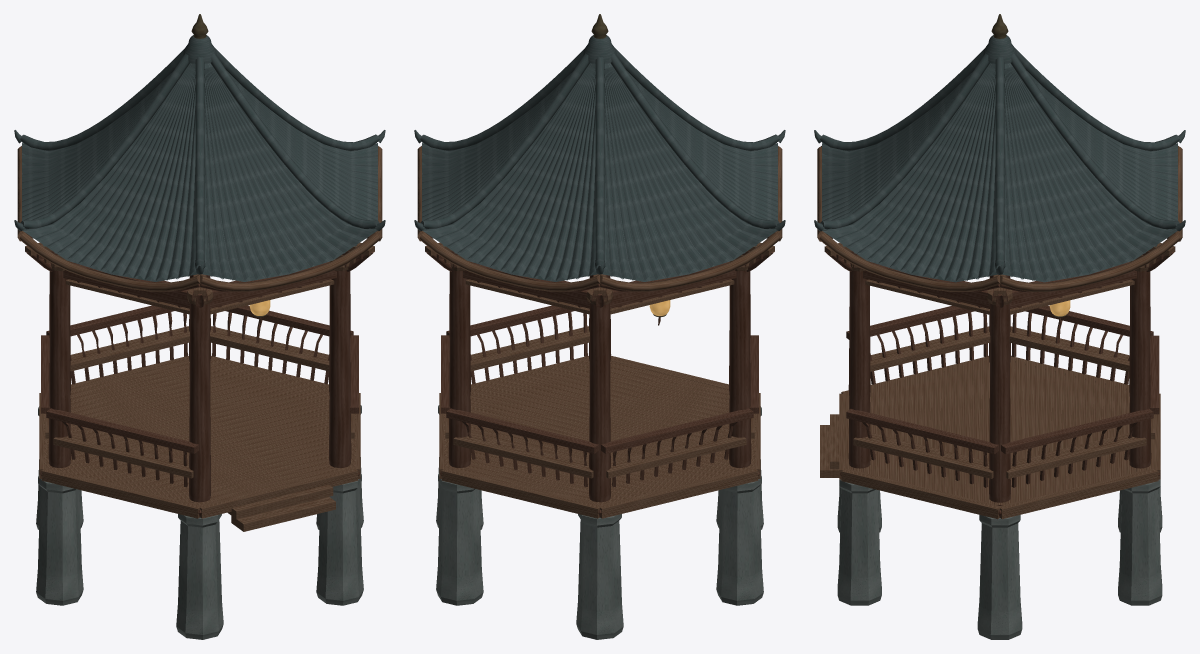
The model's file is pavilion.glb.
3 views of the same model, side by side, from view 1: azimuth 30°, elevation 25°; view 2: azimuth 150°, elevation 25°; view 3: azimuth 270°, elevation 25° (orthographic).
Visible parts, largest first — view 1: pavilion; view 2: pavilion; view 3: pavilion.
Boxes of the visible parts, <box> form: pavilion: <box>14,14,385,639</box>; pavilion: <box>414,14,785,639</box>; pavilion: <box>814,14,1185,639</box>.
Size of the model in its own units: 4.82 by 6.8 by 4.18.
2 materials, 2 textured.
